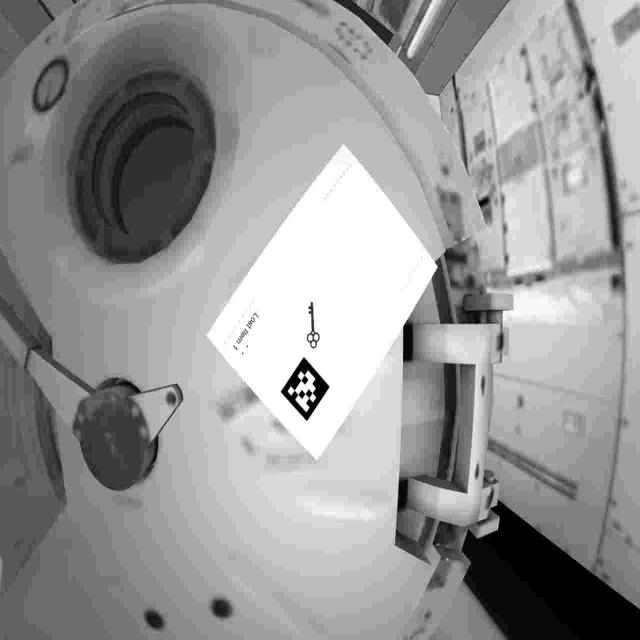key: (304, 301, 325, 358)
